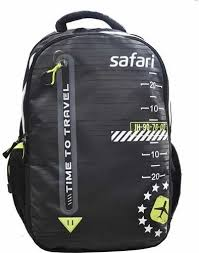backpack: (2, 10, 181, 252)
